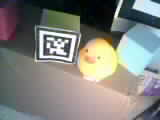duck: (68, 28, 124, 91)
